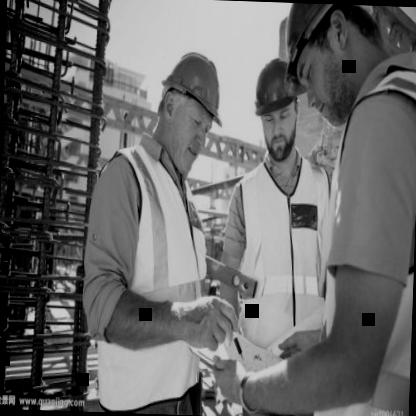helmet: (286, 3, 414, 121), (149, 37, 229, 174), (246, 47, 312, 163)
